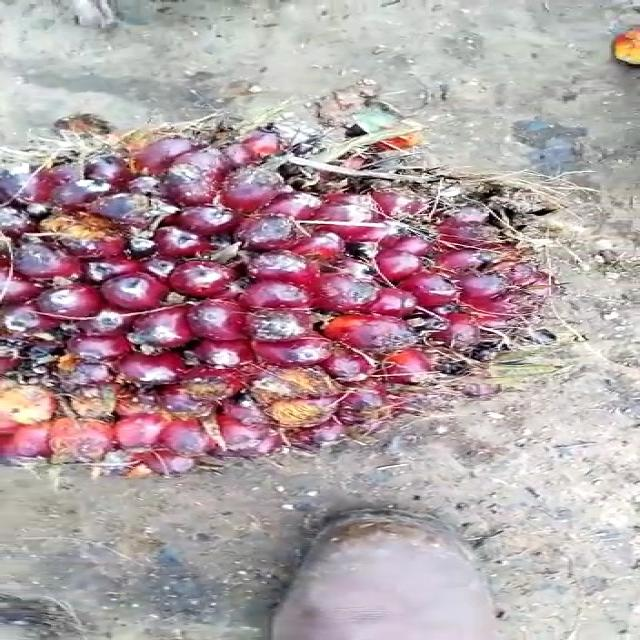palm oil: (0, 78, 556, 481)
